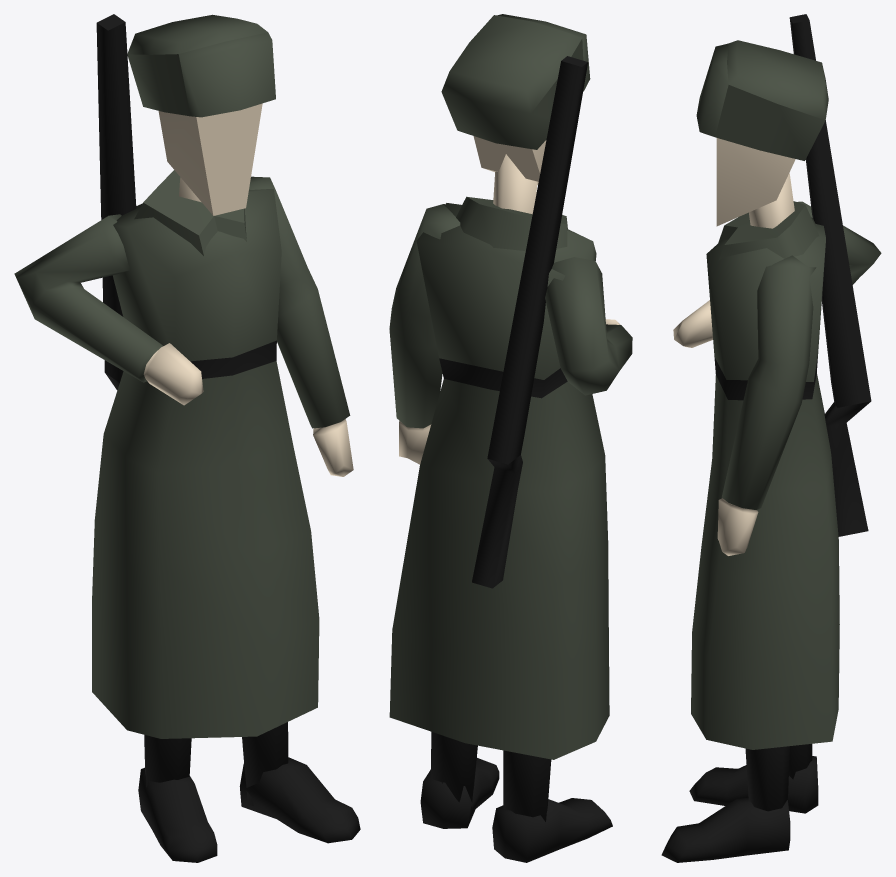
File: mesh_SovietSoldier_c.fbx
The picture shows the model from 3 angles, left to right: view 1: azimuth 30°, elevation 25°; view 2: azimuth 150°, elevation 25°; view 3: azimuth 270°, elevation 25°; orthographic projection. The views are drawn at different scales.
Visible parts, largest first — view 1: mesh_SovietSoldierC; view 2: mesh_SovietSoldierC; view 3: mesh_SovietSoldierC.
Part boxes in pixels (<box>): mesh_SovietSoldierC: <box>14,14,360,862</box>; mesh_SovietSoldierC: <box>389,14,632,862</box>; mesh_SovietSoldierC: <box>661,14,881,862</box>.
Bounding box in the file's own units: 36.15 × 103 × 26.96.
